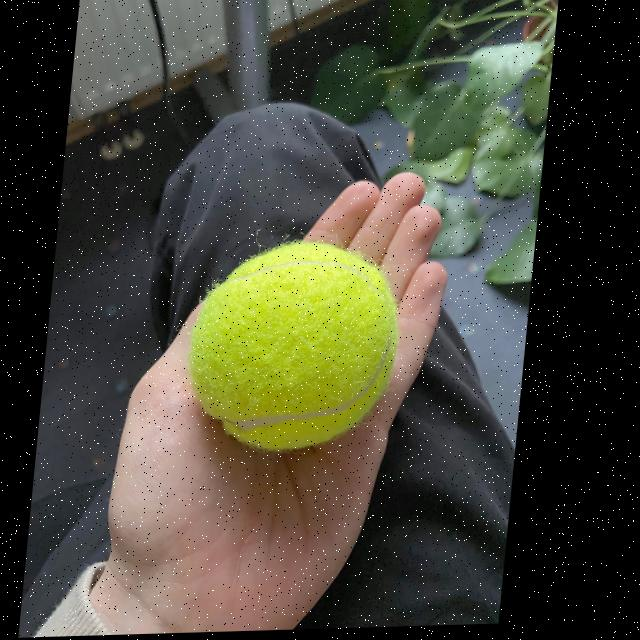Tennisball: (189, 241, 397, 452)
